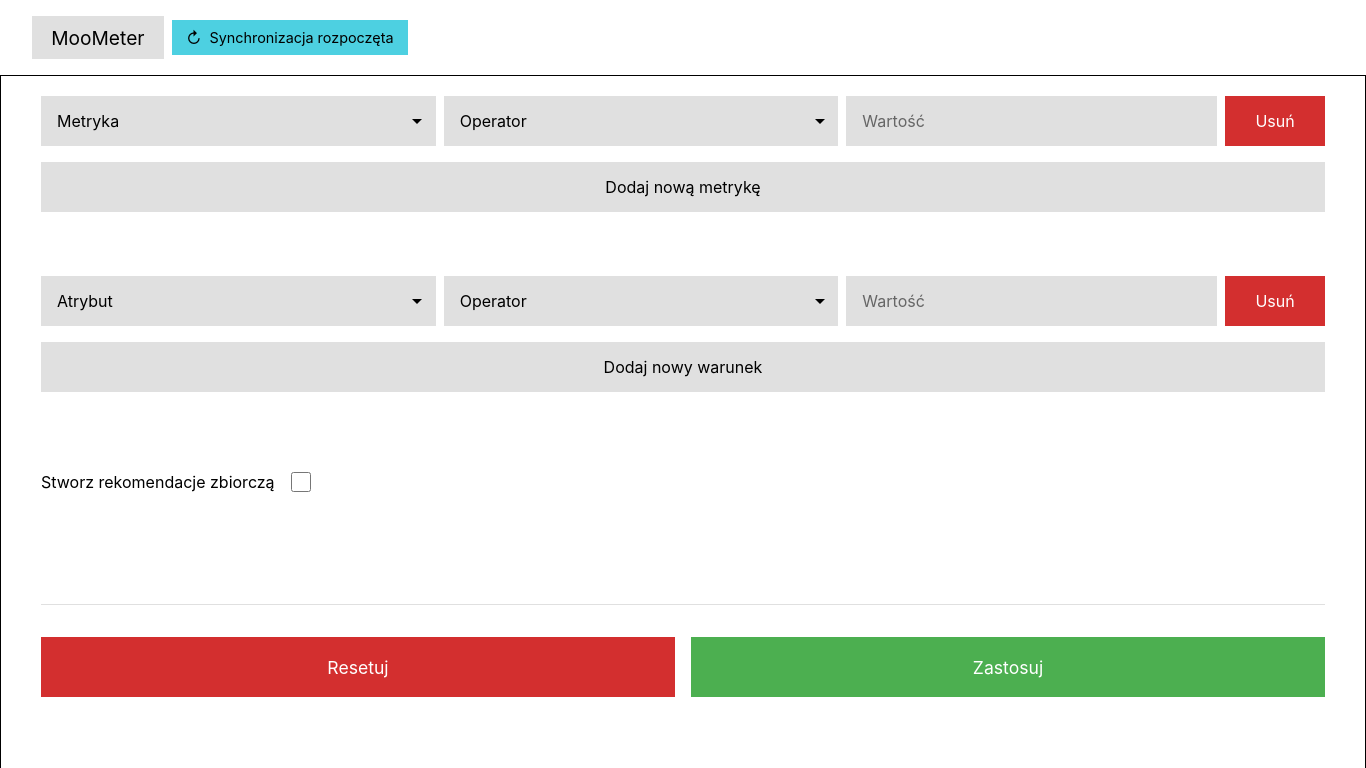
Scenario: AnalysisForm - Formularz analizy danych › powinien dodać nową metrykę po kliknięciu "Dodaj nową metrykę"
Click the button "Dodaj nową metrykę": (683, 187) [41,162,1325,212]
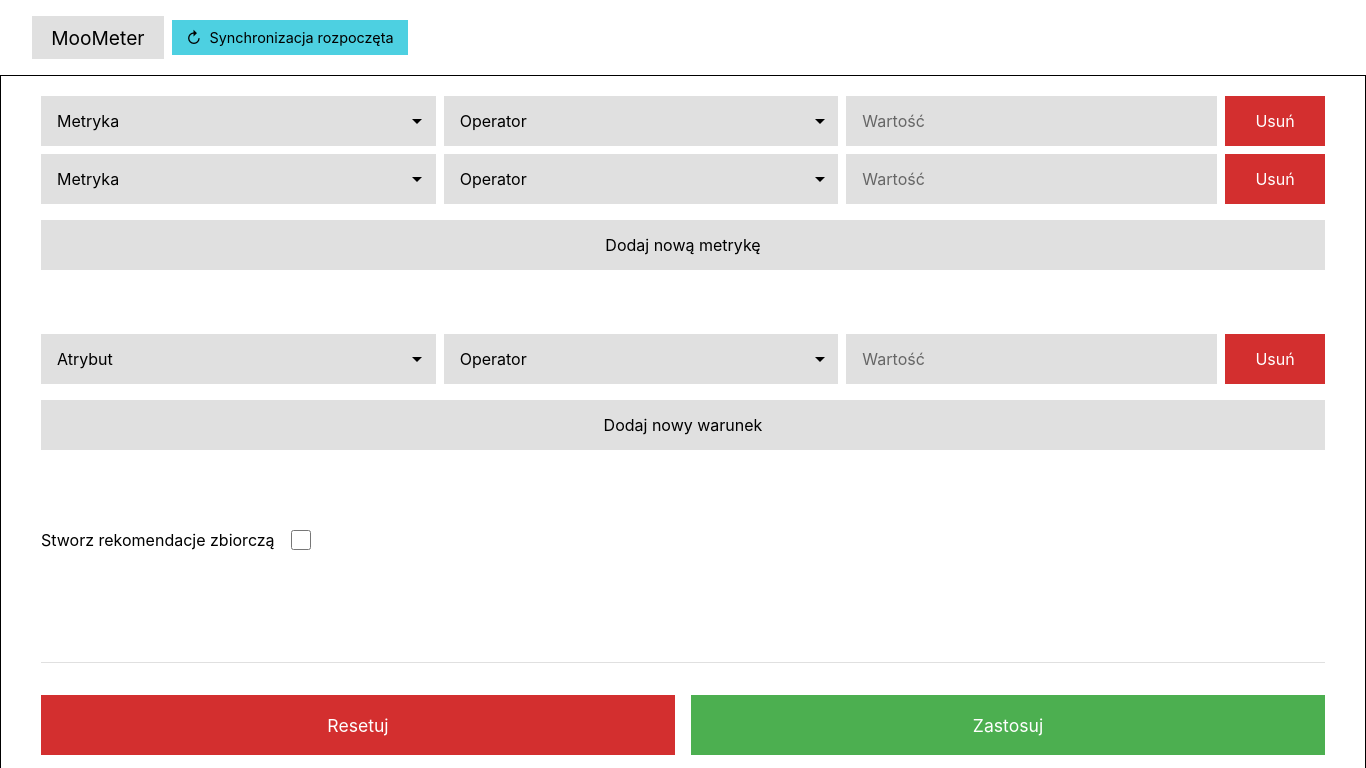
Now the number of buttons "Usuń" is 3, box [1225,96,1325,146]; [1225,154,1325,204]; [1225,334,1325,384]
